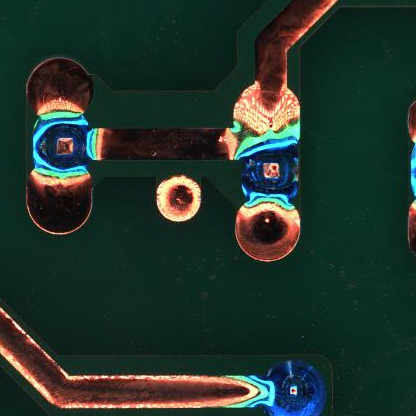spot: (32, 113, 92, 174), (263, 361, 328, 416), (241, 144, 298, 205)
